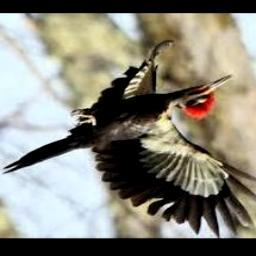Woodpecker: (2, 41, 256, 238)
